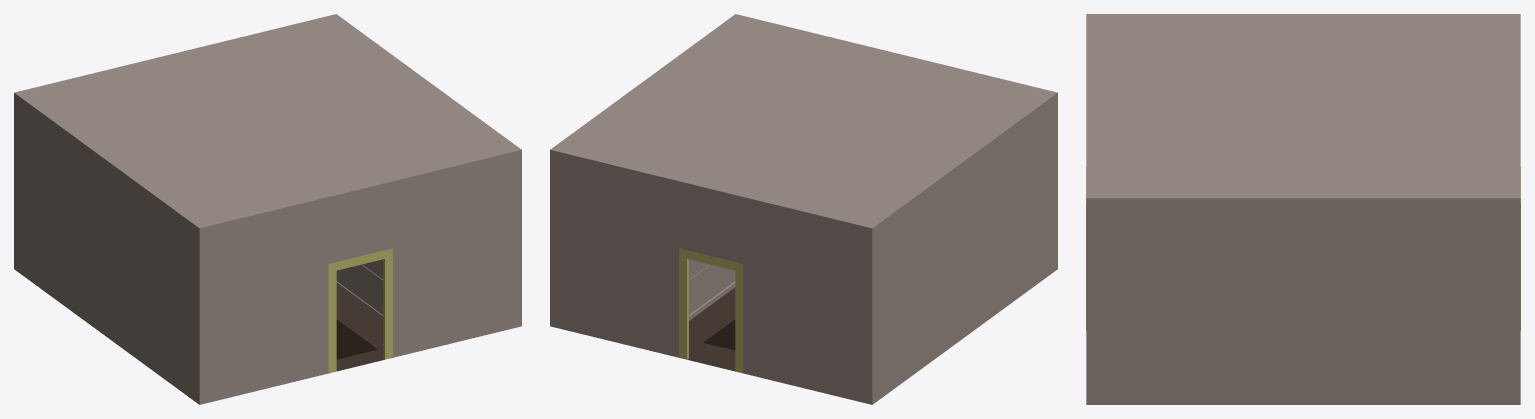
Rendered from Room41_StatuaryCorridor.fbx.
The picture shows the model from 3 angles, left to right: view 1: azimuth 30°, elevation 25°; view 2: azimuth 150°, elevation 25°; view 3: azimuth 270°, elevation 25°; orthographic projection. The views are drawn at different scales.
Visible parts, largest first — view 1: Roof, WallPosX, WallNegX, WallSlicedPosZ, WallPosX28, WallNegX6, WallSlicedPosZ18, DoorFramePosZ, Floor, pPlane14; view 2: Roof, WallPosX, WallNegX, WallSlicedNegZ, WallPosX28, WallNegX6, WallSlicedNegZ19, DoorFrameNegZ, Floor, pPlane14; view 3: WallNegX, Roof, WallNegX6, WallPosX.
Boxes of the visible parts, x1,y1,x2,y2 form: Roof: (17,15,518,227); WallPosX: (14,69,297,364); WallNegX: (239,14,521,309); WallSlicedPosZ: (296,173,424,340); WallPosX28: (14,229,297,404); WallNegX6: (336,264,521,349); WallSlicedPosZ18: (296,310,424,381); DoorFramePosZ: (328,248,392,372); Floor: (329,287,392,373); pPlane14: (336,319,377,359); Roof: (553,15,1054,227); WallPosX: (774,69,1057,364); WallNegX: (550,14,832,309); WallSlicedNegZ: (647,173,775,340); WallPosX28: (773,229,1057,404); WallNegX6: (550,264,735,349); WallSlicedNegZ19: (647,310,775,380); DoorFrameNegZ: (679,248,743,372); Floor: (679,287,742,373); pPlane14: (703,319,735,350); WallNegX: (1086,142,1520,357); Roof: (1088,15,1518,197); WallNegX6: (1086,357,1520,404); WallPosX: (1086,14,1520,69).
Bounding box in the file's own units: 802 × 420 × 800.
